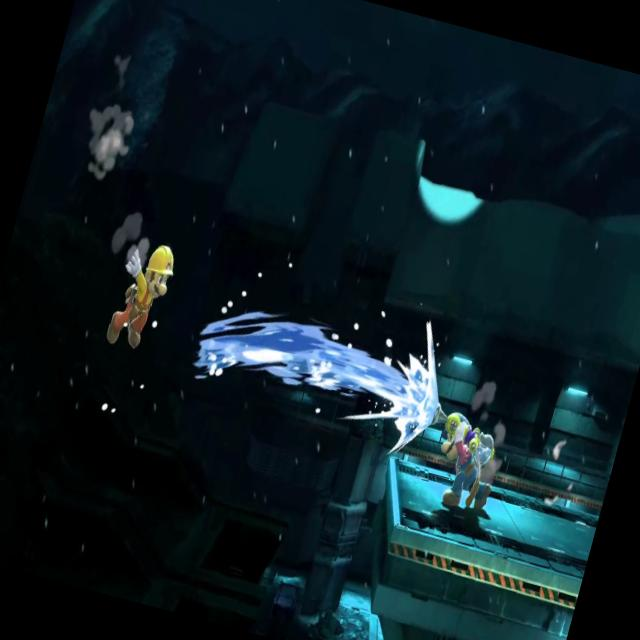Mario: (96, 225, 185, 362)
Mario-DB: (400, 384, 516, 524)
